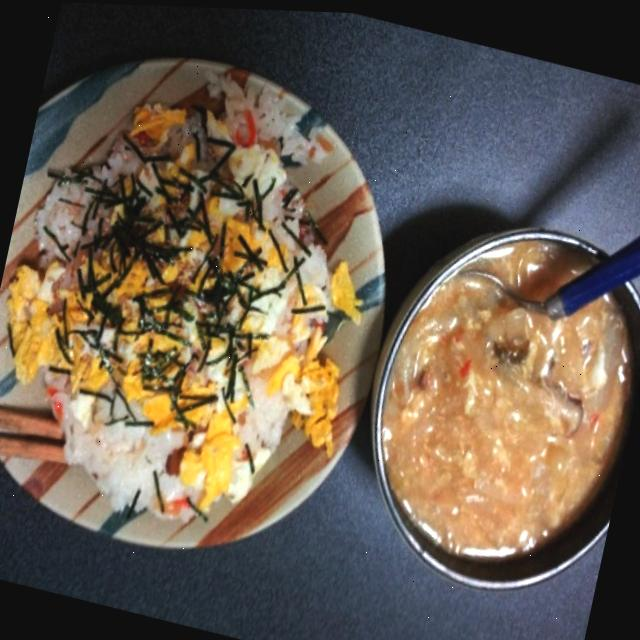寿司卷物: (0, 13, 439, 611)
汤锅炖物: (331, 179, 640, 624)
